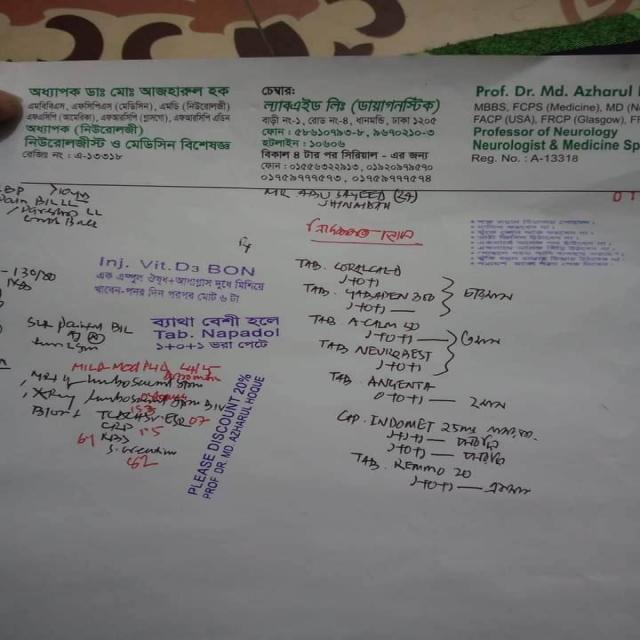A-Calm: (349, 316, 400, 332)
Angenta: (369, 374, 441, 393)
Coralcal D: (334, 256, 410, 276)
Indomet: (364, 410, 433, 434)
Neurobest: (350, 344, 438, 363)
remmo: (390, 454, 454, 479)
